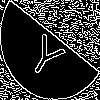Y: (25, 25, 71, 82)
